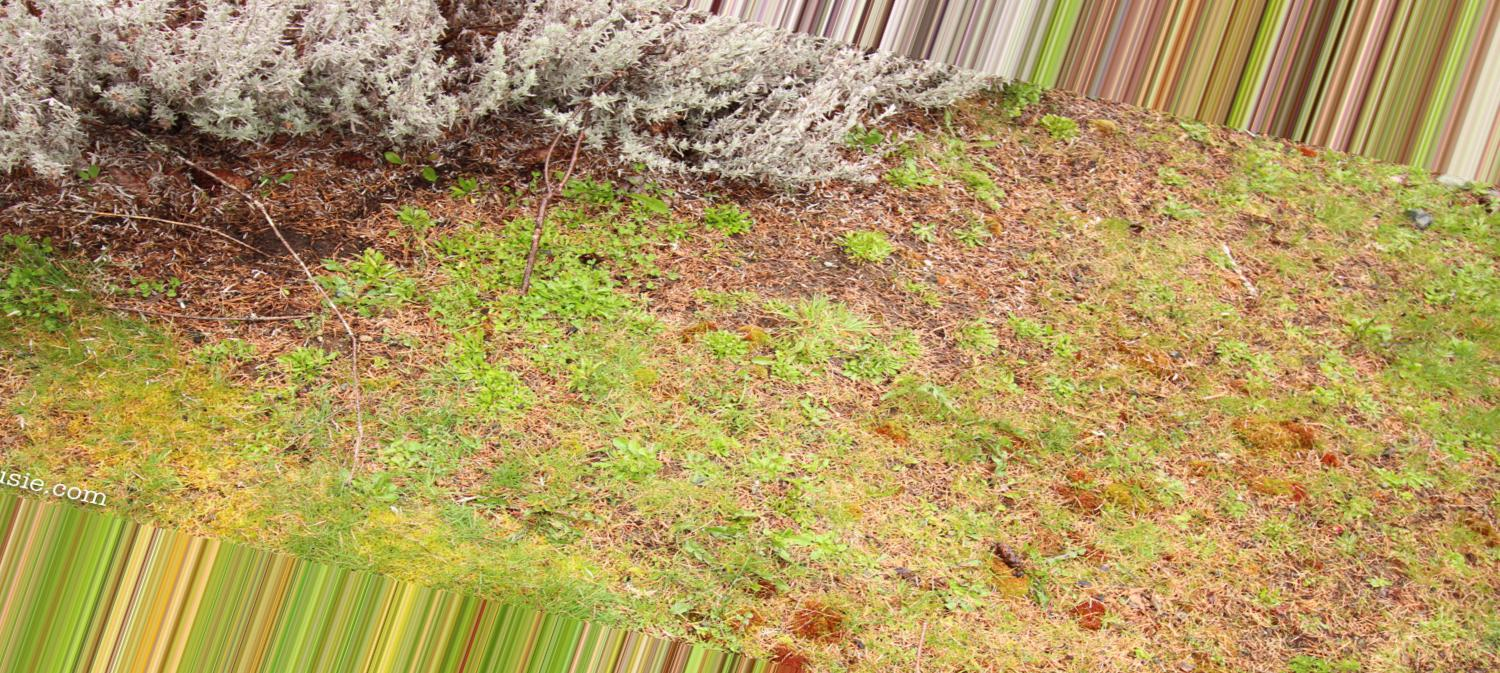patch: (208, 257, 467, 409), (504, 261, 774, 354), (913, 439, 1078, 587), (1038, 153, 1207, 297), (777, 195, 1004, 290), (581, 469, 773, 569), (1332, 503, 1459, 616), (1154, 508, 1280, 608), (953, 613, 1156, 667), (815, 512, 901, 612)
